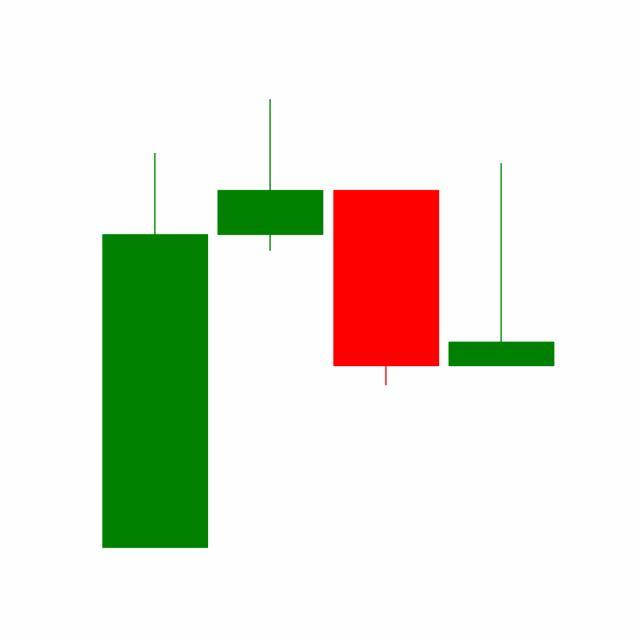Gravestone Doji: (444, 162, 560, 369)
